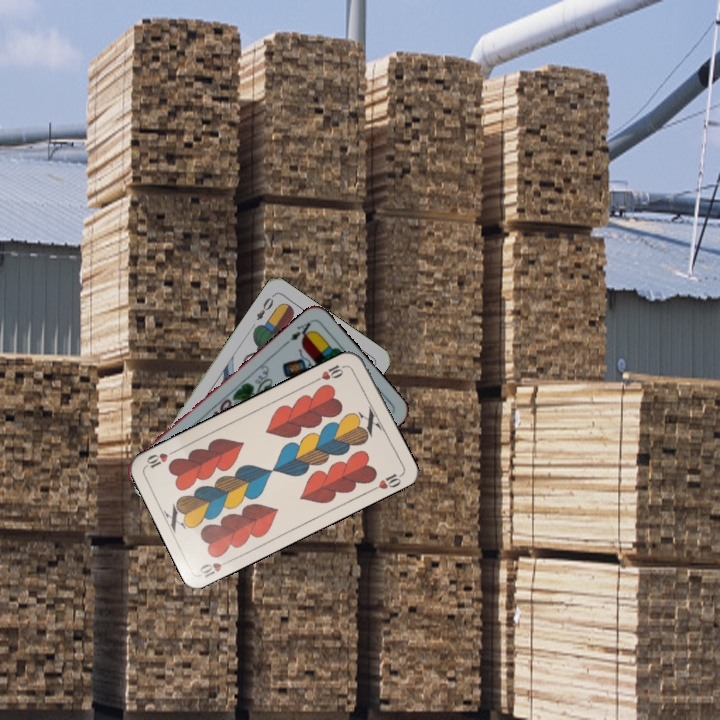EA: (281, 316, 316, 347)
EO: (252, 291, 277, 323)
H10: (196, 555, 235, 580), (311, 360, 350, 384)
